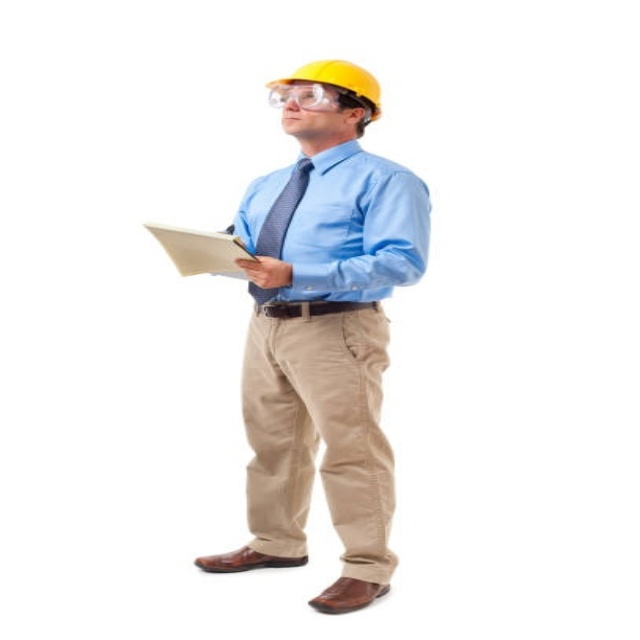Gafas: (268, 84, 349, 111)
Sin_guantes: (235, 255, 291, 290)
Sin_mascara: (278, 112, 313, 131)
